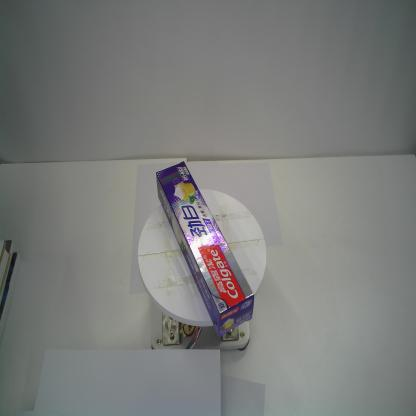Personal Hygiene: (156, 161, 254, 337)
